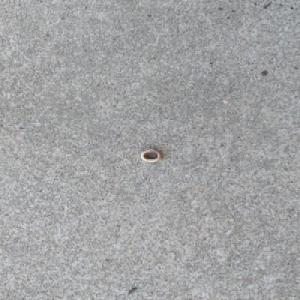Nut: (139, 148, 163, 163)
